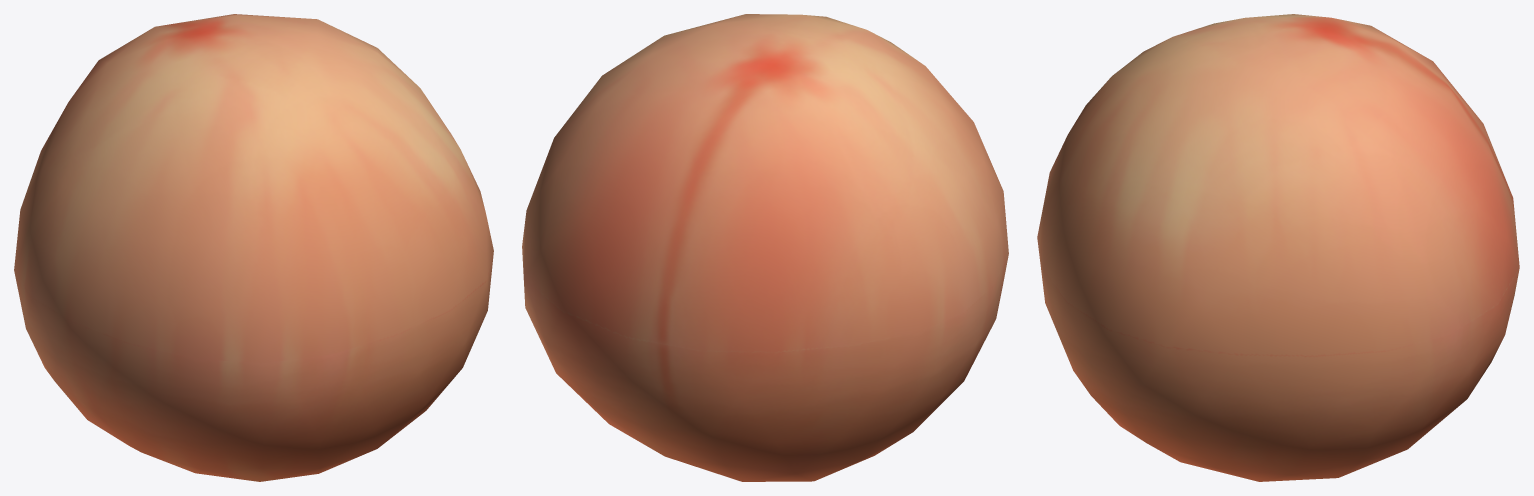
The model's file is Peach.FBX.
3 renders of one model, left to right at view 1: azimuth 30°, elevation 25°; view 2: azimuth 150°, elevation 25°; view 3: azimuth 270°, elevation 25°, orthographic.
Parts seen in each view (by area): view 1: Peach; view 2: Peach; view 3: Peach.
Boxes of the visible parts, x1,y1,x2,y2 form: Peach: [14, 14, 493, 481]; Peach: [522, 14, 1008, 481]; Peach: [1037, 14, 1519, 481].
Bounding box in the file's own units: 6.73 × 6.53 × 6.82.
